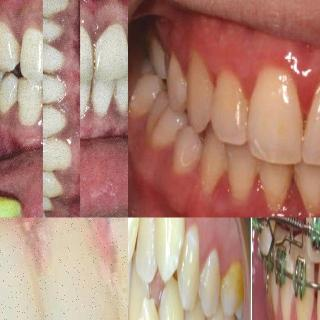Gum Swelling: (207, 55, 320, 119), (201, 170, 320, 218)
maligned: (183, 55, 213, 135), (132, 218, 158, 280), (174, 120, 200, 178), (128, 218, 144, 258)
plaque: (208, 151, 236, 183), (245, 157, 269, 185)
stains: (220, 265, 248, 313), (8, 37, 28, 65), (87, 44, 102, 78), (86, 77, 98, 109)
